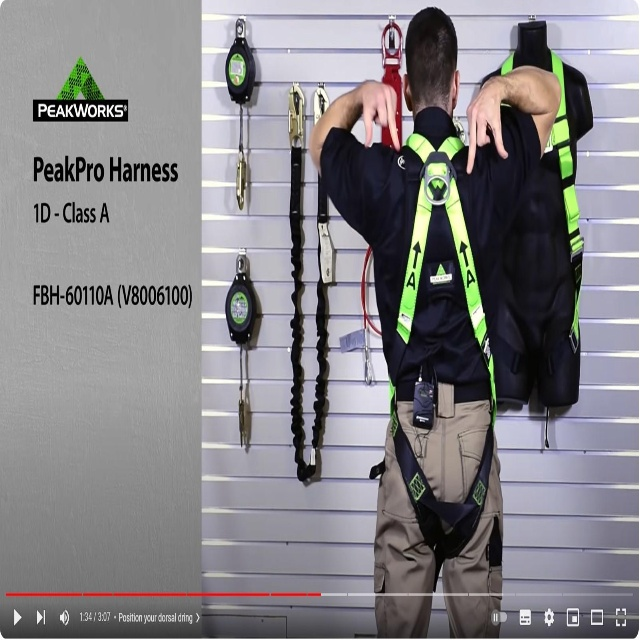Arnes_seguridad: (389, 129, 498, 557)
